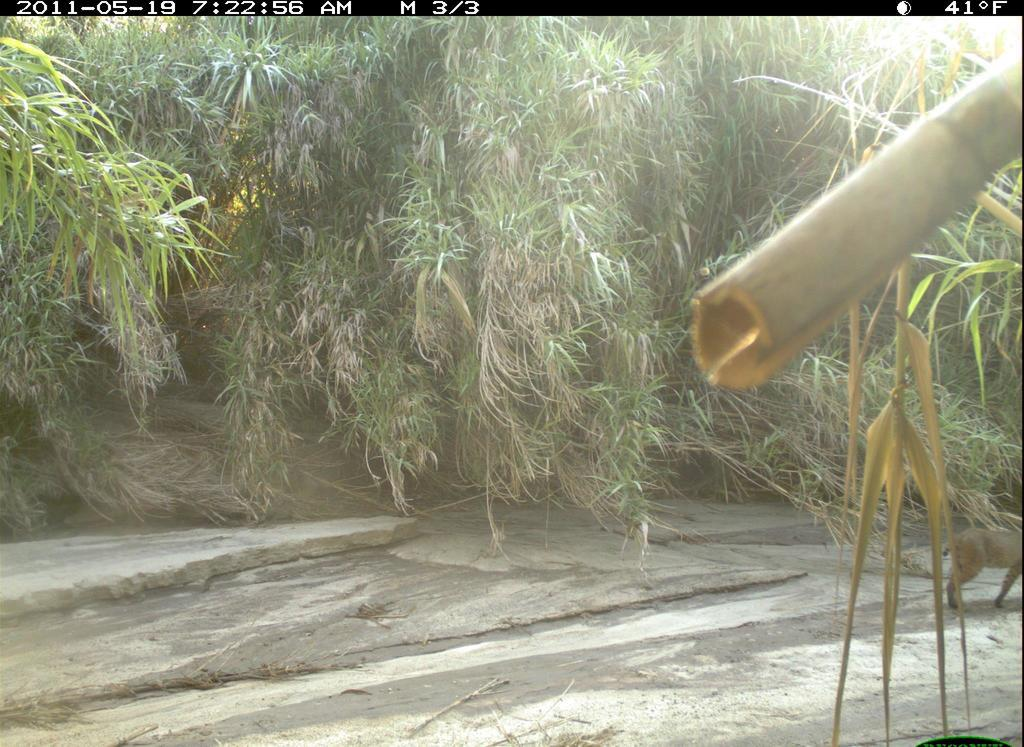bobcat: (934, 515, 1023, 616)
